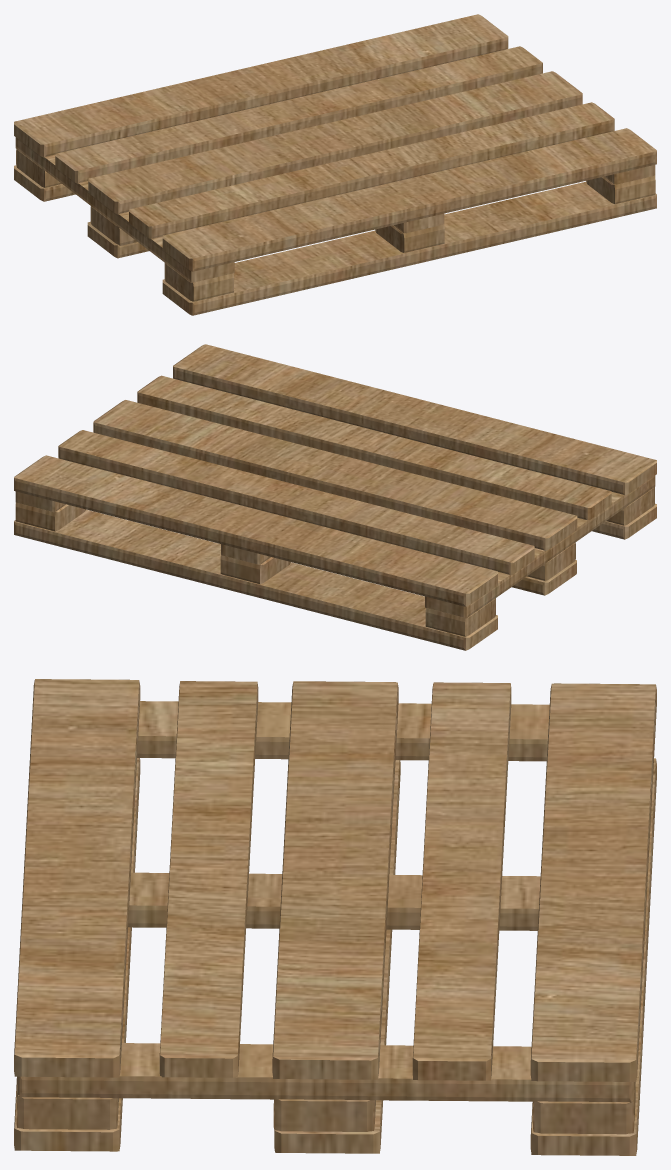
File: pale.glb
3 renders of one model, top to bottom at view 1: azimuth 30°, elevation 25°; view 2: azimuth 150°, elevation 25°; view 3: azimuth 270°, elevation 25°, orthographic. The views are drawn at different scales.
Visible parts, largest first — view 1: pale; view 2: pale; view 3: pale.
Boxes of the visible parts, left/top/right/bottom form: pale: left=14, top=14, right=656, bottom=315; pale: left=14, top=344, right=656, bottom=650; pale: left=14, top=679, right=656, bottom=1155.
Size of the model in its own units: 1.2 by 0.14 by 0.85.
Materials: 1 (1 with a texture image).
